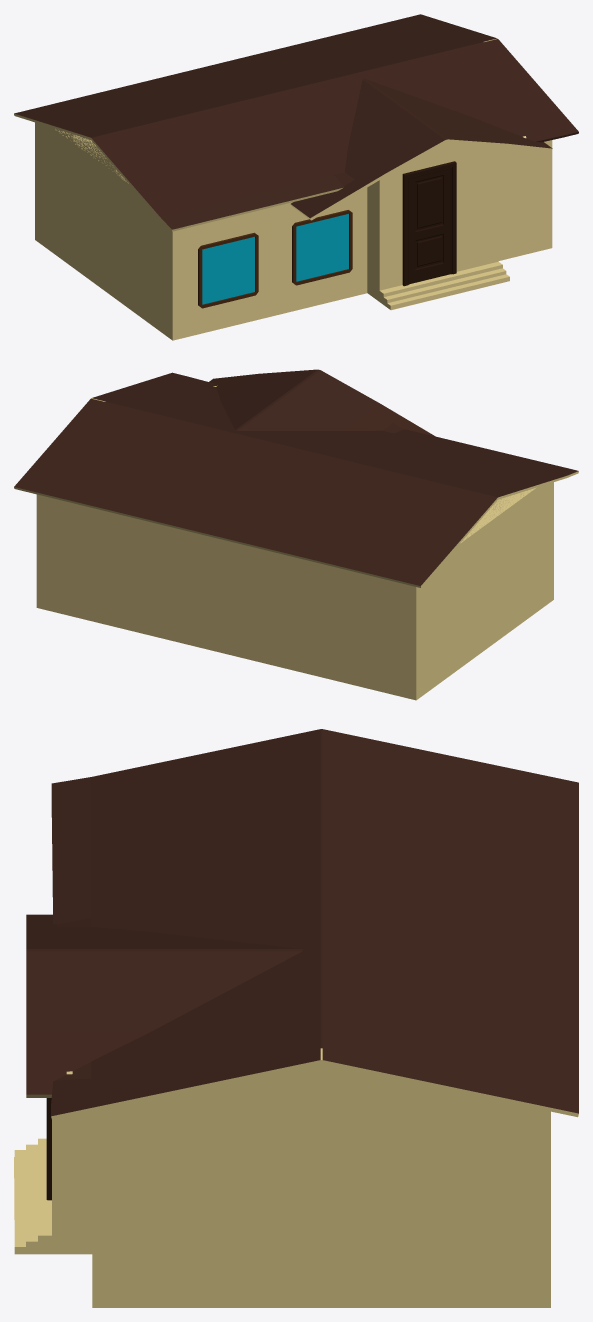
File: House2.fbx
The picture shows the model from 3 angles, top to bottom: view 1: azimuth 30°, elevation 25°; view 2: azimuth 150°, elevation 25°; view 3: azimuth 270°, elevation 25°; orthographic projection. The views are drawn at different scales.
Visible parts, largest first — view 1: Plane, Door, Plane.002, Plane.001, Door Frame; view 2: Plane; view 3: Plane.
Part boxes in pixels (left/top/right/bottom): Plane: left=14, top=14, right=578, bottom=340; Door: left=409, top=169, right=450, bottom=284; Plane.002: left=198, top=232, right=258, bottom=308; Plane.001: left=292, top=210, right=352, bottom=285; Door Frame: left=402, top=161, right=456, bottom=286; Plane: left=14, top=369, right=578, bottom=700; Plane: left=14, top=729, right=578, bottom=1307.
Bounding box in the file's own units: 853 × 312 × 616.
